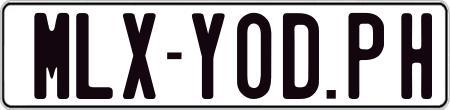0: (236, 12, 270, 99)
D: (282, 12, 318, 101)
H: (399, 10, 433, 100)
L: (73, 10, 113, 100)
M: (34, 13, 70, 104)
P: (346, 13, 386, 101)
X: (122, 11, 160, 98)
Y: (190, 13, 229, 100)
